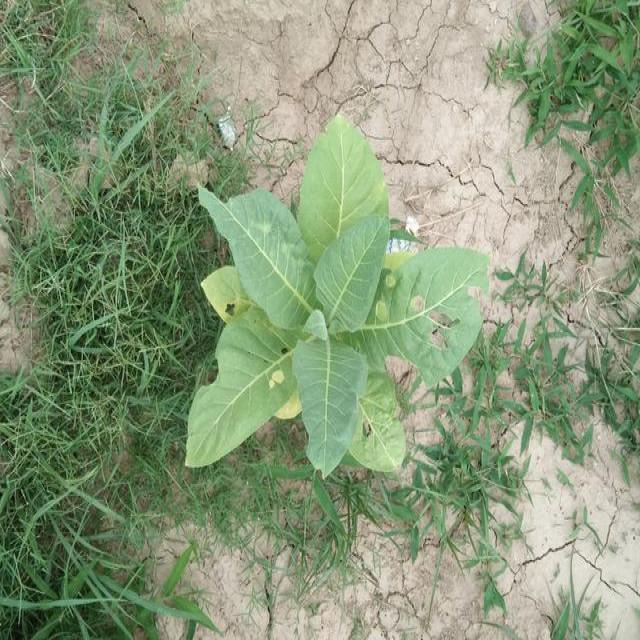crop: (169, 108, 497, 490)
